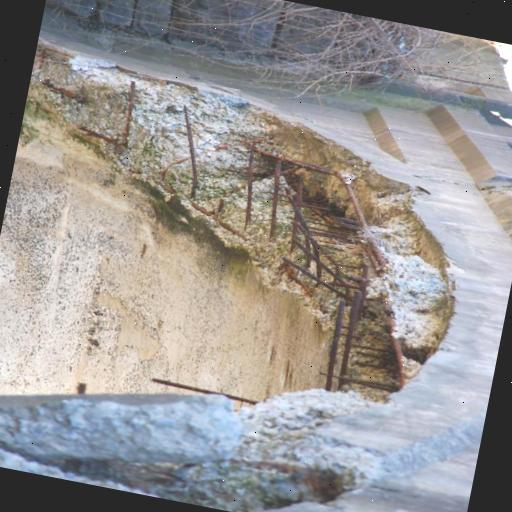spalling: (30, 39, 452, 387)
